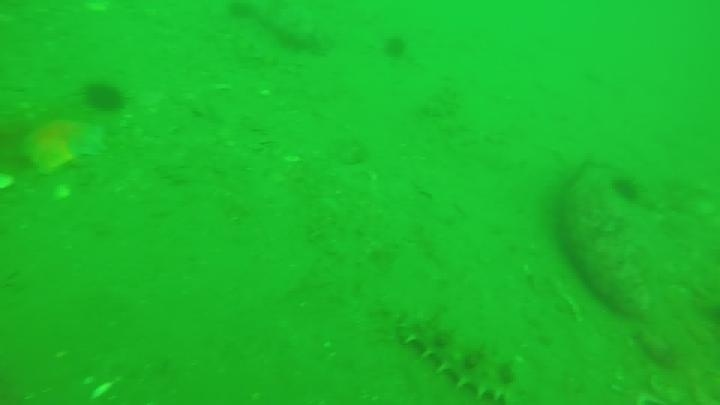echinus: (81, 80, 128, 114), (609, 174, 642, 203), (380, 33, 410, 61)
holothurian: (403, 313, 532, 405)
starfish: (20, 118, 109, 179)
